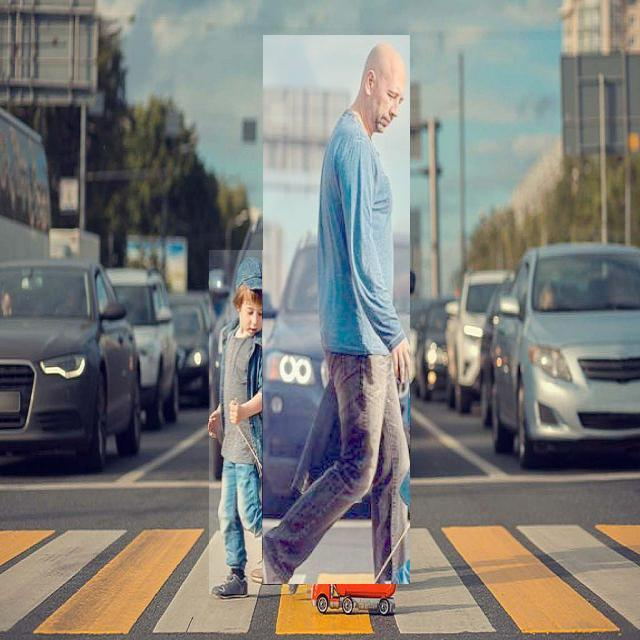without scooter: (263, 35, 410, 584), (210, 250, 308, 594)
